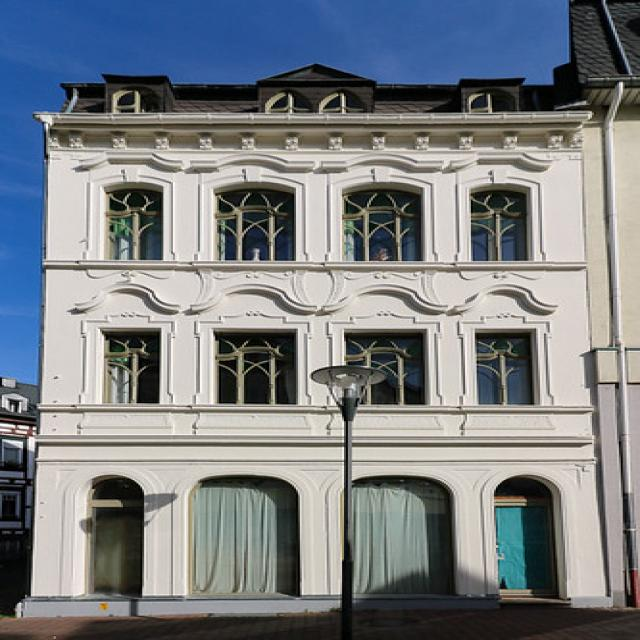Normal_building: (16, 57, 636, 624)
